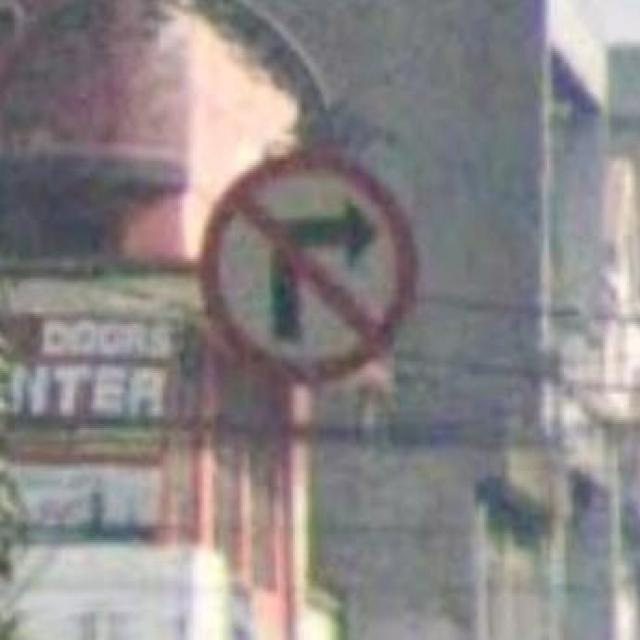traffic sign: (204, 153, 418, 377)
